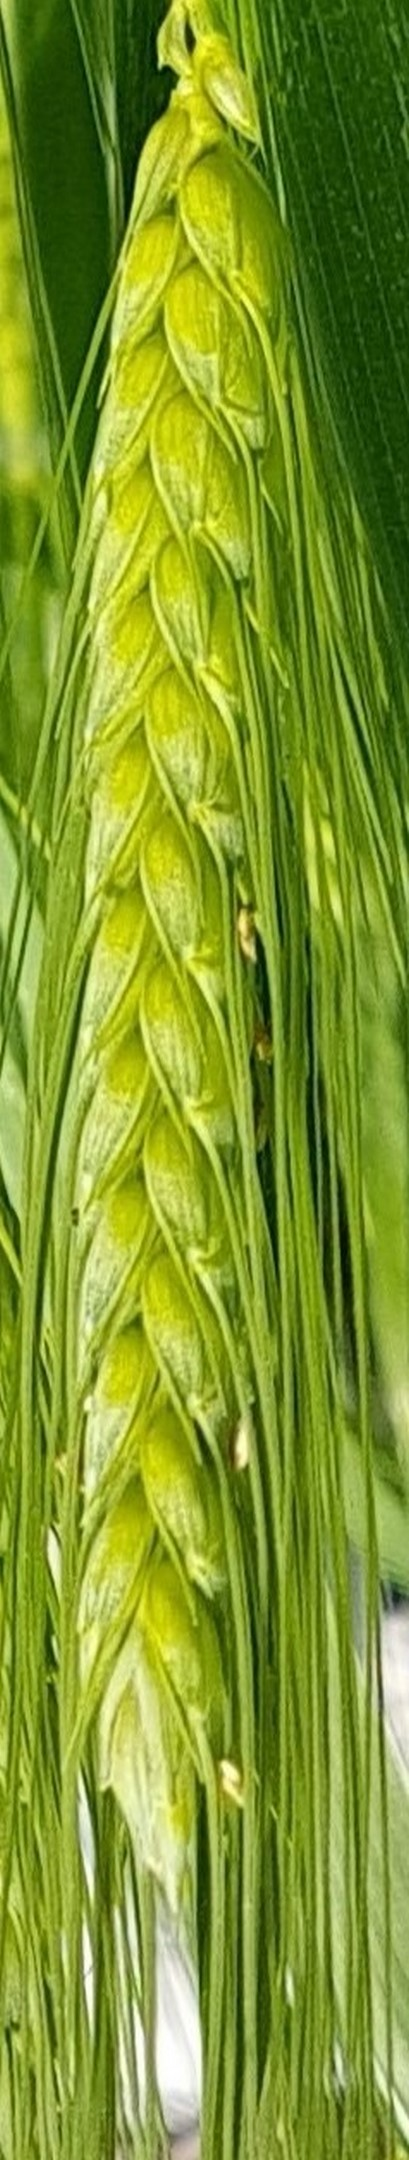Healthy Wheat: (23, 141, 357, 1861)
